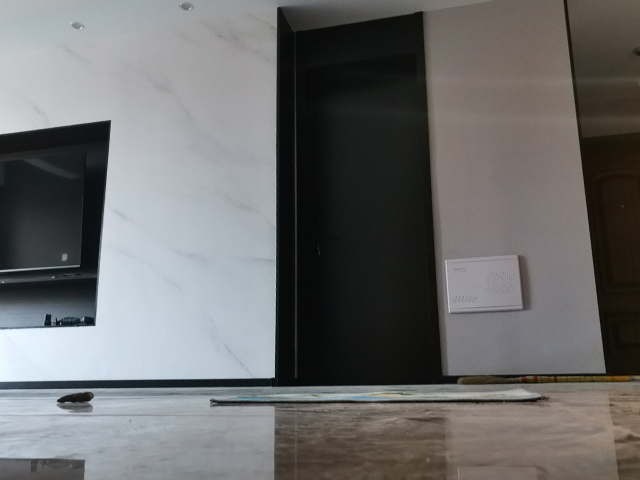carpet: (208, 386, 550, 407)
feces: (56, 391, 94, 404)
